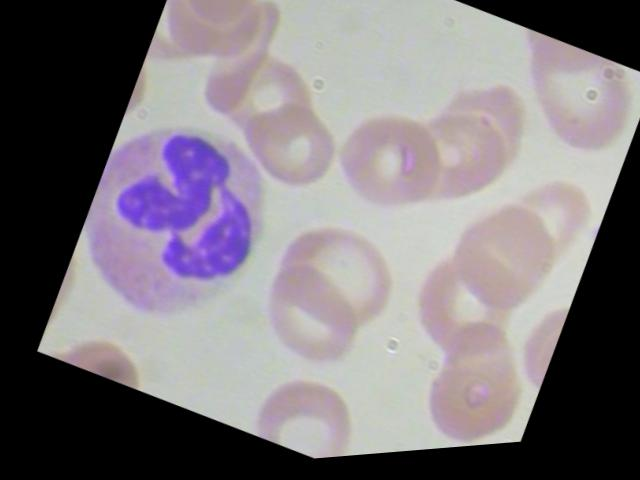Red Blood Cells: (245, 198, 417, 357), (414, 185, 572, 350), (303, 90, 462, 245), (486, 32, 639, 181), (230, 247, 377, 391), (218, 85, 347, 211), (222, 354, 365, 467), (46, 316, 146, 395), (495, 23, 600, 95), (320, 435, 423, 461), (288, 0, 395, 22)
White Blood Cells: (34, 79, 305, 369)
